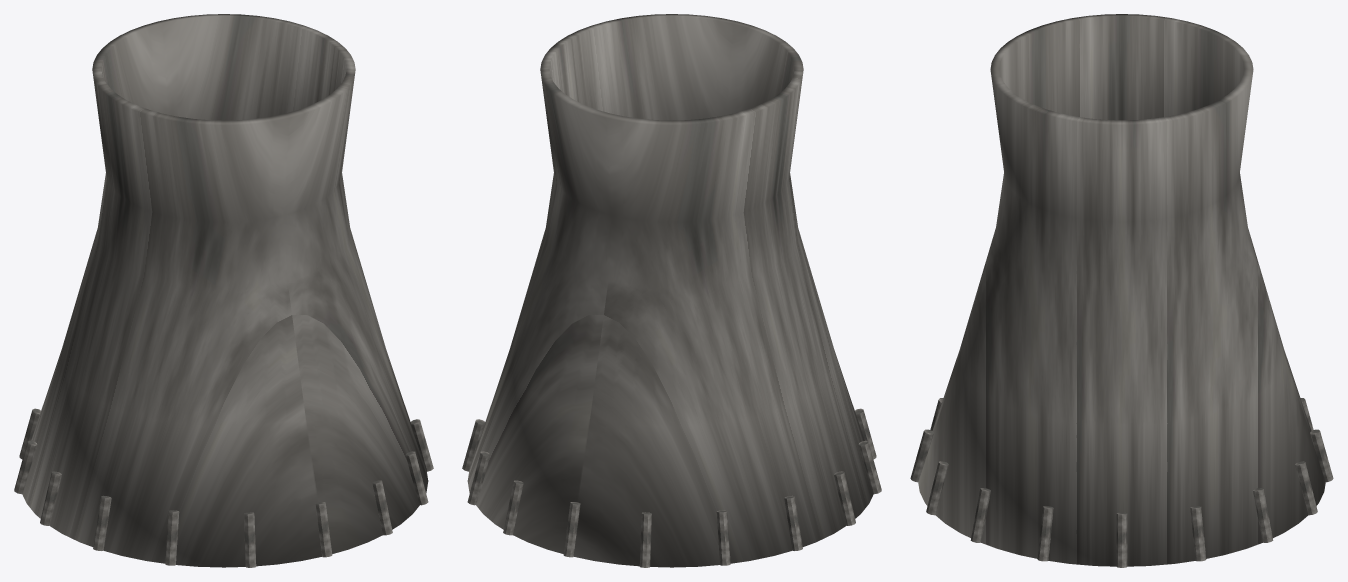
The model's file is HM16_CoolingTower.glb.
The picture shows the model from 3 angles, left to right: view 1: azimuth 30°, elevation 25°; view 2: azimuth 150°, elevation 25°; view 3: azimuth 270°, elevation 25°; orthographic projection.
Parts seen in each view (by area): view 1: HM16_CoolingTower; view 2: HM16_CoolingTower; view 3: HM16_CoolingTower.
Part boxes in pixels (x1=…): HM16_CoolingTower: x1=14, y1=14, x2=433, y2=567; HM16_CoolingTower: x1=462, y1=14, x2=881, y2=567; HM16_CoolingTower: x1=910, y1=14, x2=1333, y2=567.
Bounding box in the file's own units: 9.25 × 10 × 9.25.
Materials: 1 (1 with a texture image).
